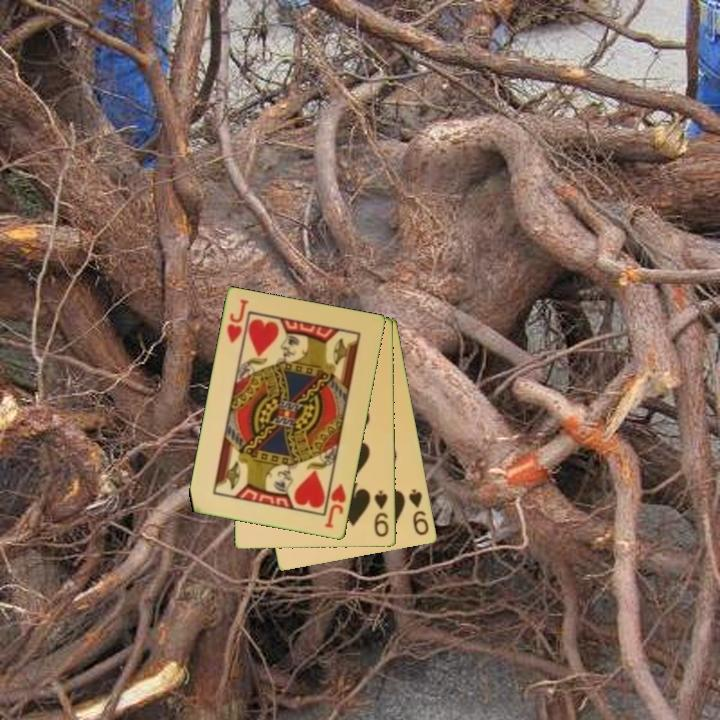9s: (405, 485, 432, 538), (371, 487, 391, 540)
Jh: (321, 475, 349, 531), (223, 296, 251, 347)
